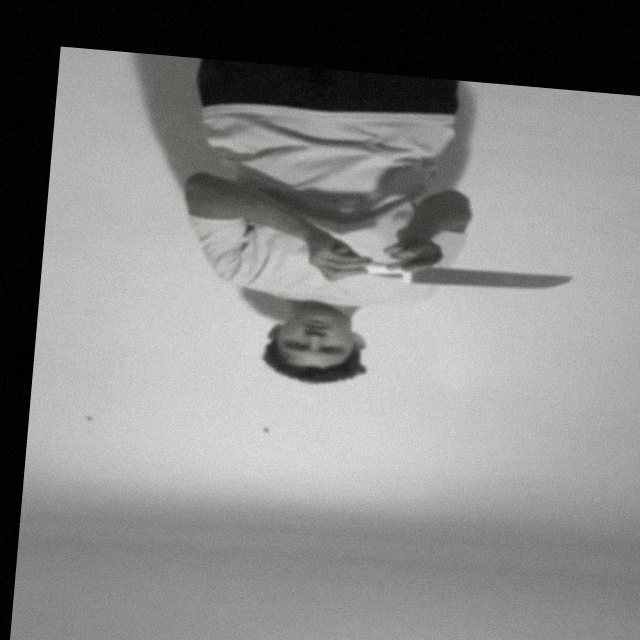Sharp-Object: (409, 263, 578, 301)
